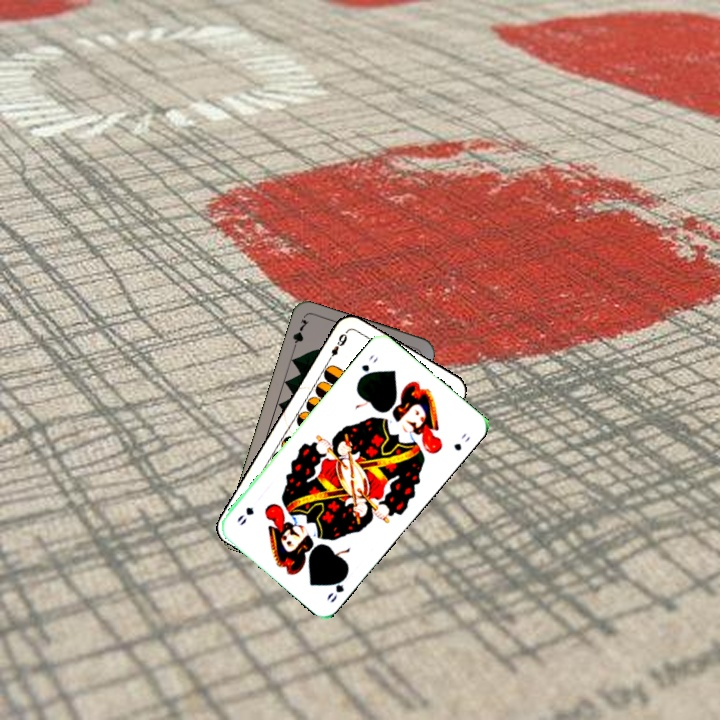E9: (323, 329, 350, 365)
G7: (288, 315, 311, 354)
GO: (322, 568, 351, 605), (355, 350, 381, 383)
